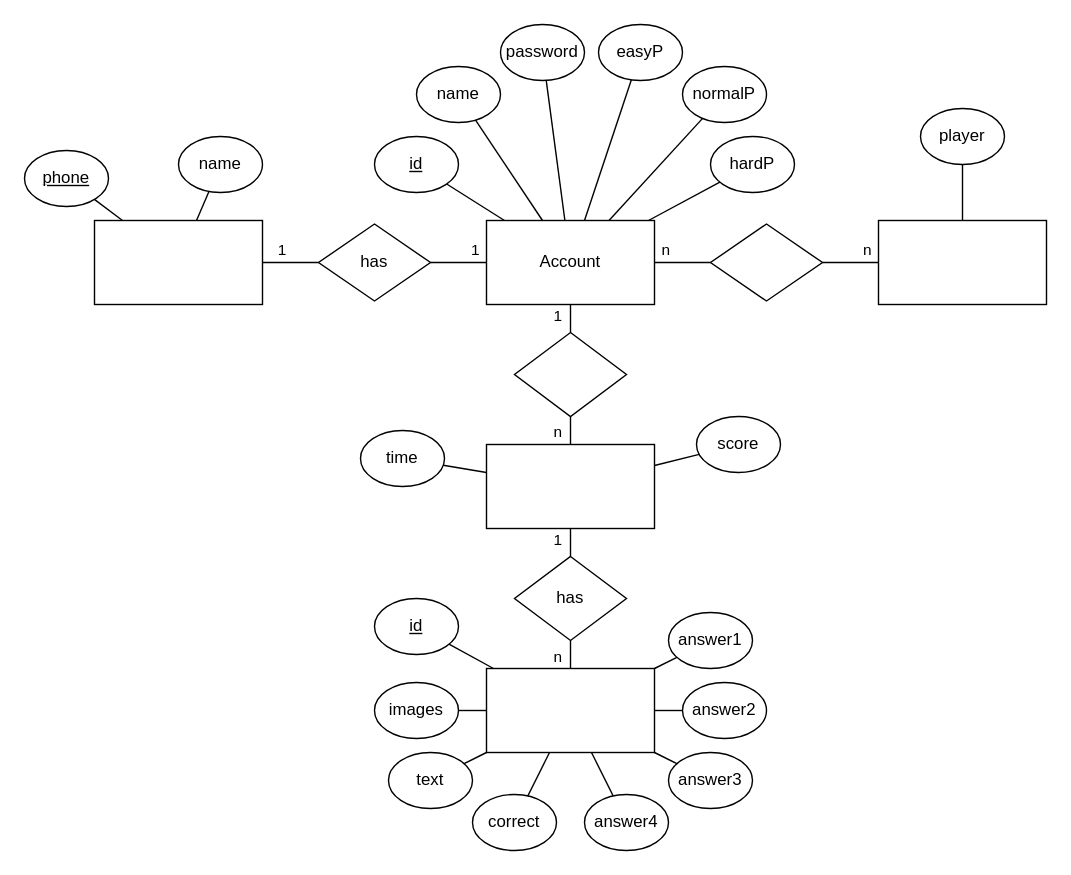
This 1071x875 diagram has some shape labels left out. The box of each missing label's shape, as (x1, y1, x2, y2) in pixels:
Game: (485, 443, 654, 528)
in: (709, 223, 822, 301)
LeaderBoard: (877, 219, 1046, 304)
play: (513, 331, 626, 416)
Question: (485, 667, 654, 752)
User: (93, 219, 262, 304)
